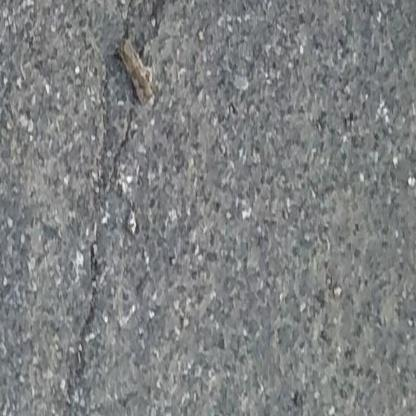Cracks: (99, 0, 176, 175), (52, 258, 104, 416)
